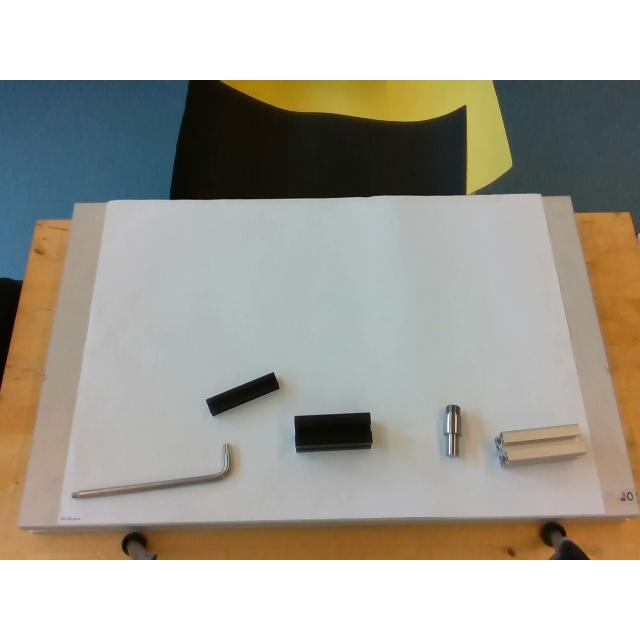AllenKey: (70, 443, 230, 497)
Axis2: (444, 404, 460, 456)
F20_20_B: (206, 372, 278, 416)
S40_40_B: (294, 412, 372, 452)
S40_40_G: (494, 424, 586, 464)
